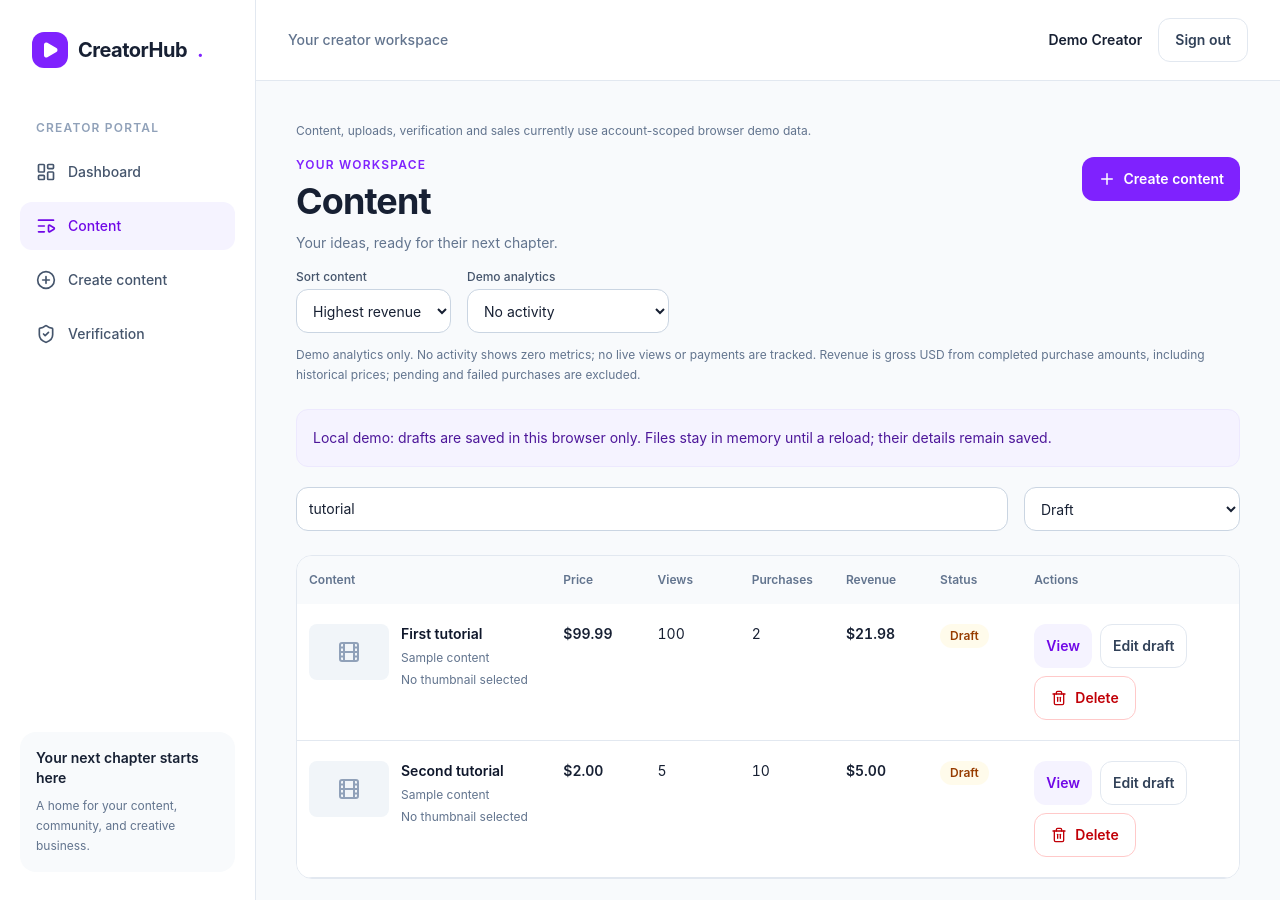
Test: sorts actual metrics and combines URL sorting with search and status filtering
This screenshot has width=1280, height=900.
Check: the text "$21.98" is shown, box [846,625,895,642]
Check: the headings read "First tutorial", "Second tutorial", in this order, box [401,625,482,642]; [401,762,504,779]
Select "Most purchases" in the dropdown labelled "Sort content" at (374, 311), box [296,289,451,333]
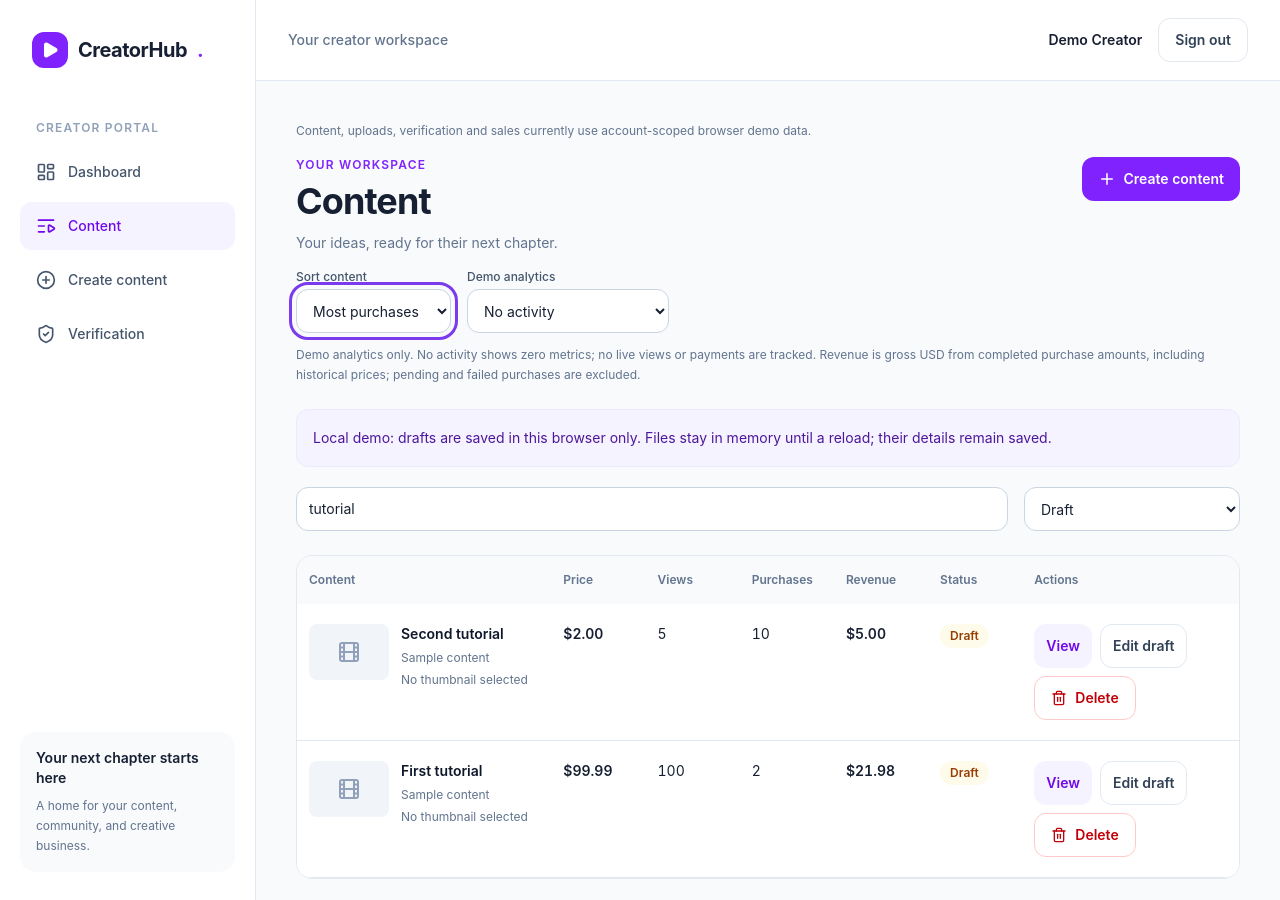
Check: the search field holds "tutorial", box [296,487,1008,531]
Check: the headings read "Second tutorial", "First tutorial", in this order, box [401,625,504,642]; [401,762,482,779]
Select "Published" in the dropdown named "Filter by status" at (1132, 509), box [1024,487,1240,531]
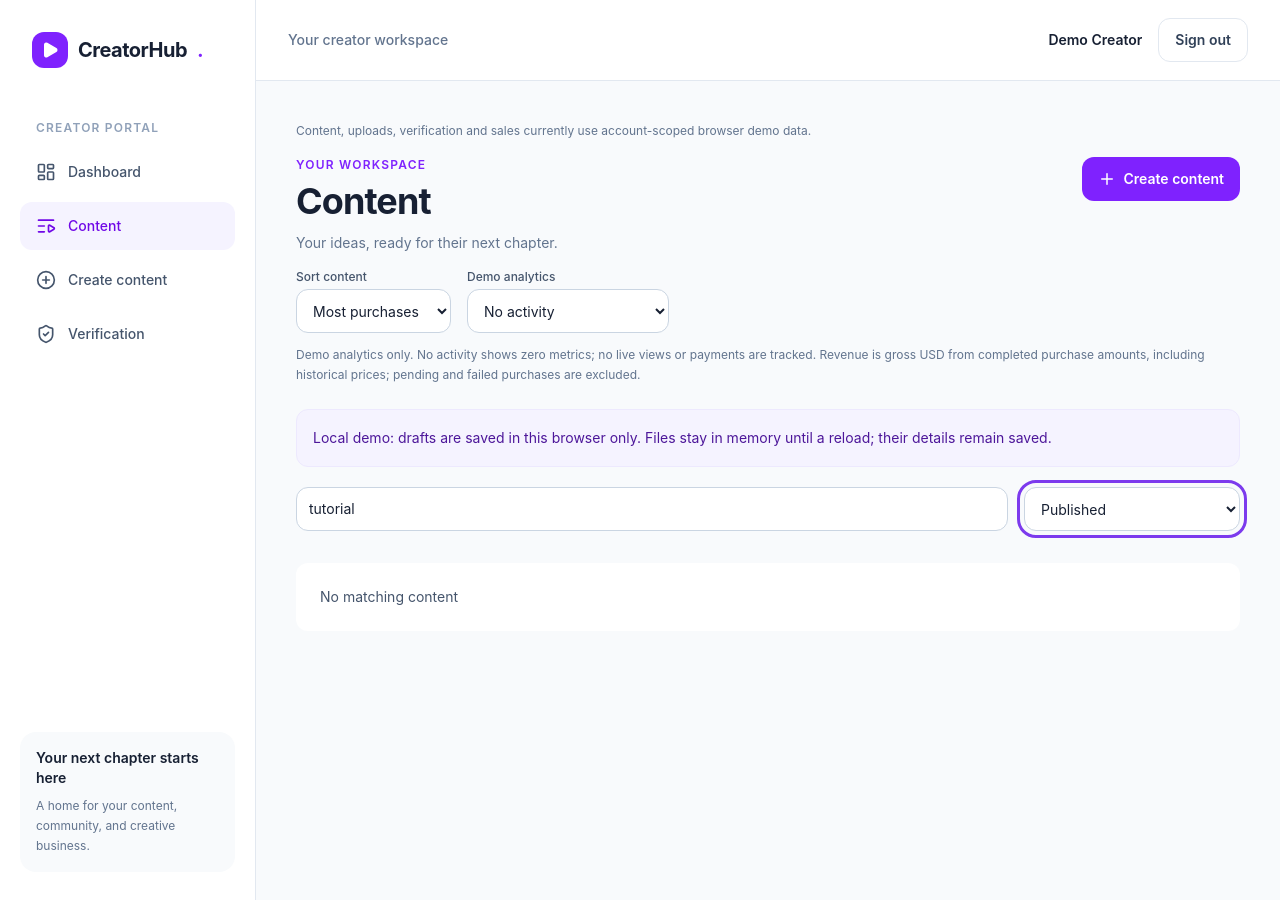
Check: the text "No matching content" is shown, box [296,563,1240,631]
